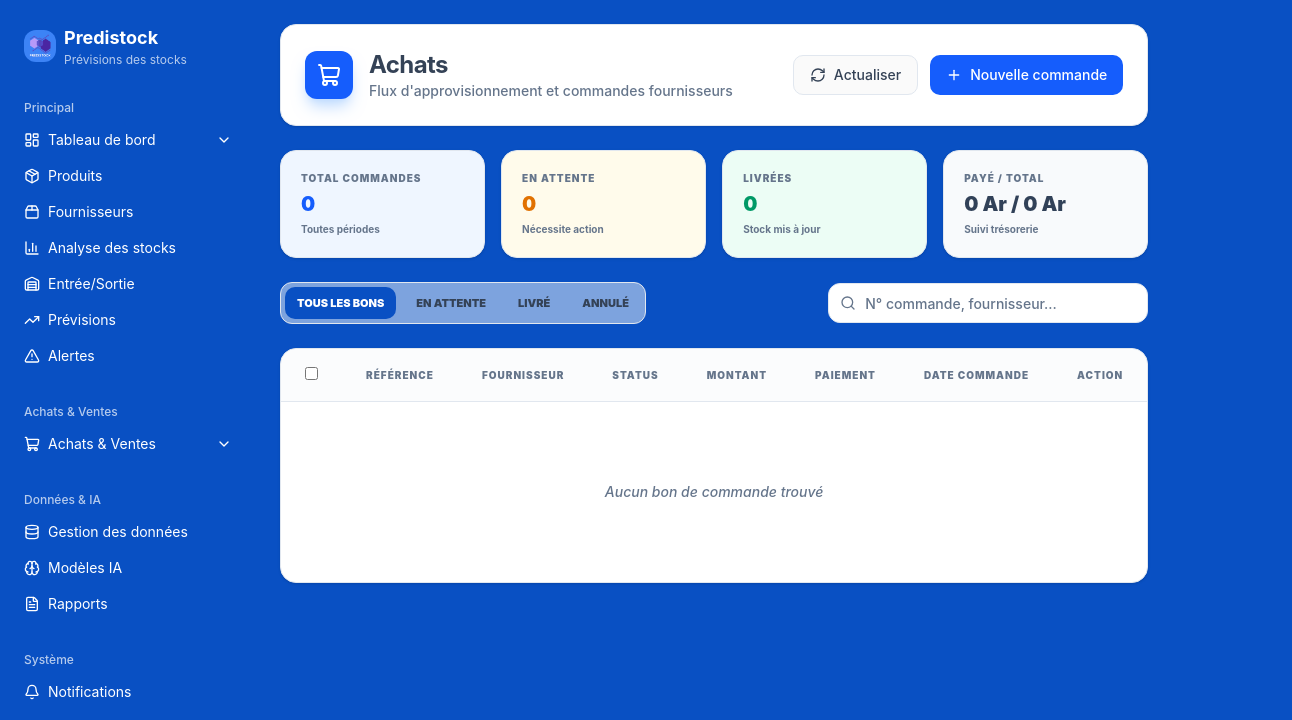
it: Intégration — l'interface Achats & Ventes est complète et accessible › l'écran « Ventes » se charge sans erreur et affiche son titre
What coordinates should you click on to do the following:
click the button "Achats & Ventes"
I would click on:
 (128, 444)
Its box is [16,428,240,460].
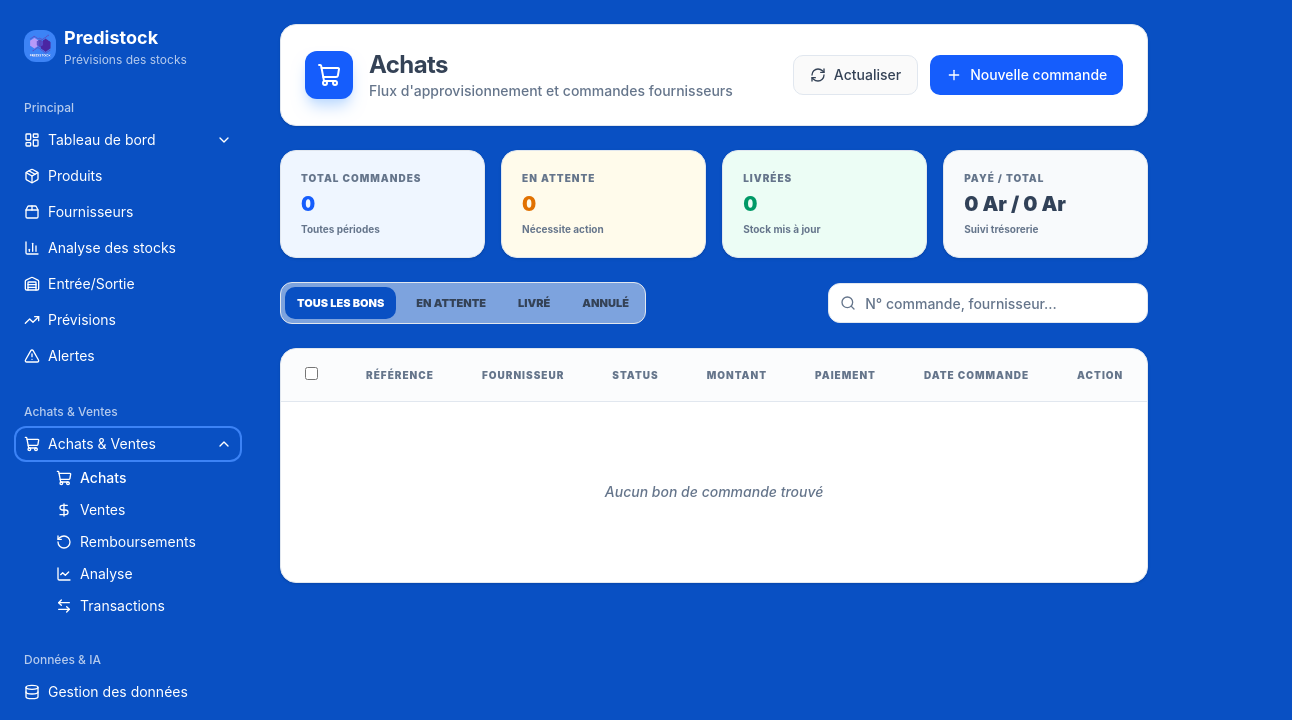
What coordinates should you click on to do the following:
click the link "Ventes"
I would click on:
 (103, 510)
Its box is [80,500,125,520].
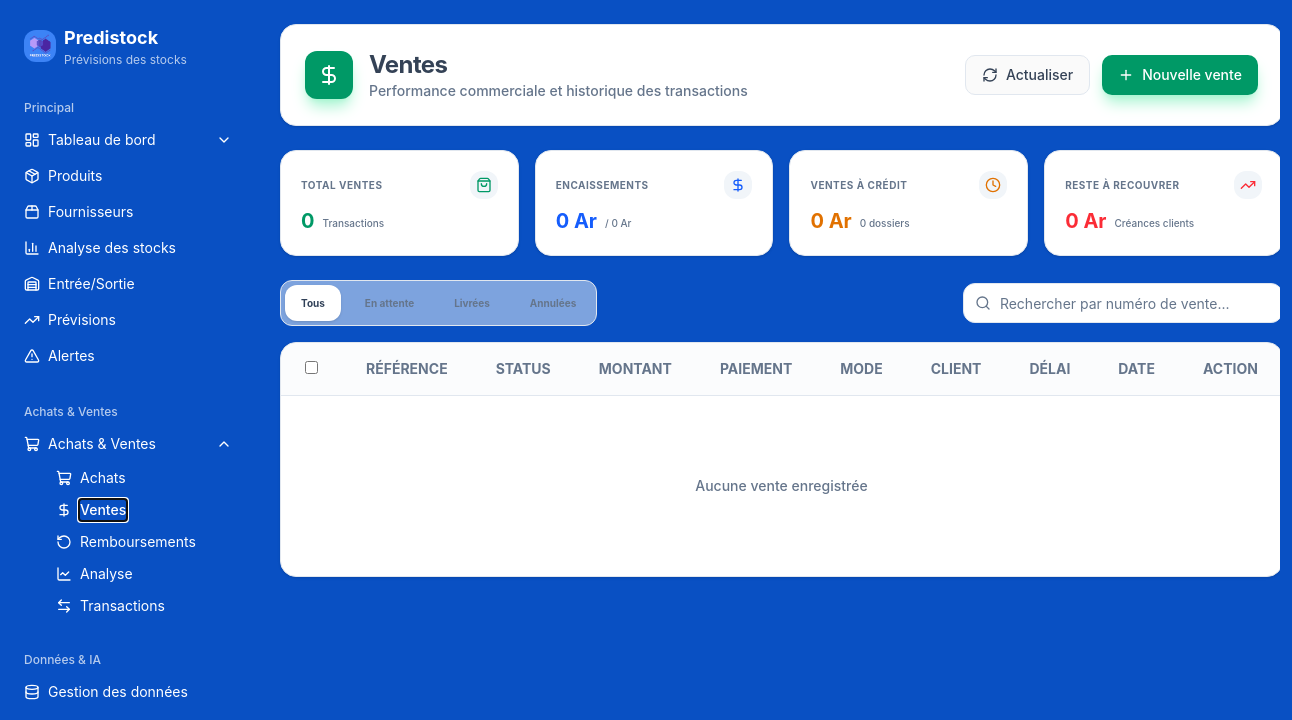
Expected: the heading "Ventes" is shown, [369,50,447,79]
